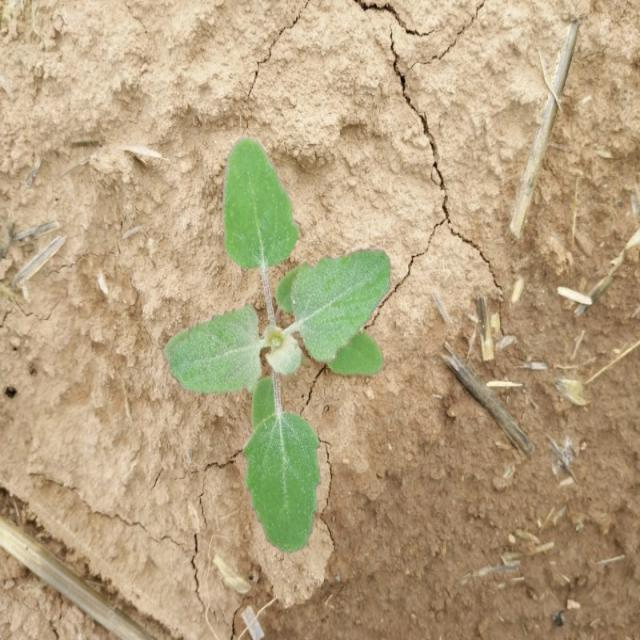ca: (164, 140, 390, 549)
